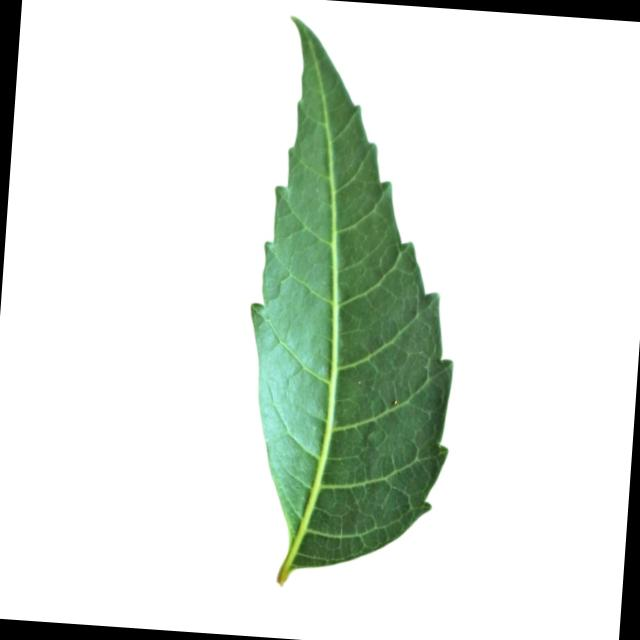Medicinal-Neem: (230, 12, 479, 599)
